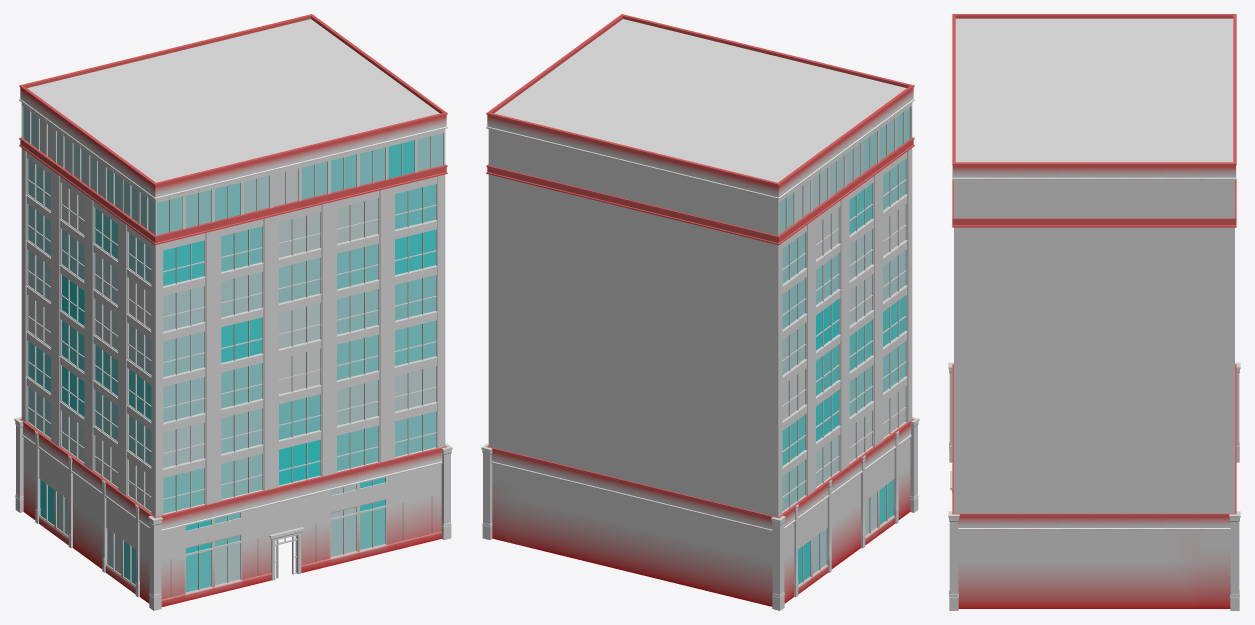
The model's file is Building_Large_2.gltf.
The picture shows the model from 3 angles, left to right: view 1: azimuth 30°, elevation 25°; view 2: azimuth 150°, elevation 25°; view 3: azimuth 270°, elevation 25°; orthographic projection. The views are drawn at different scales.
Parts seen in each view (by area): view 1: Building_Large_2; view 2: Building_Large_2; view 3: Building_Large_2.
Boxes of the visible parts, box(x1,y1,x2,y2) form: Building_Large_2: box(14, 14, 452, 610); Building_Large_2: box(481, 14, 919, 610); Building_Large_2: box(948, 14, 1240, 610).
Size of the model in its own units: 20.64 by 28 by 16.64.
